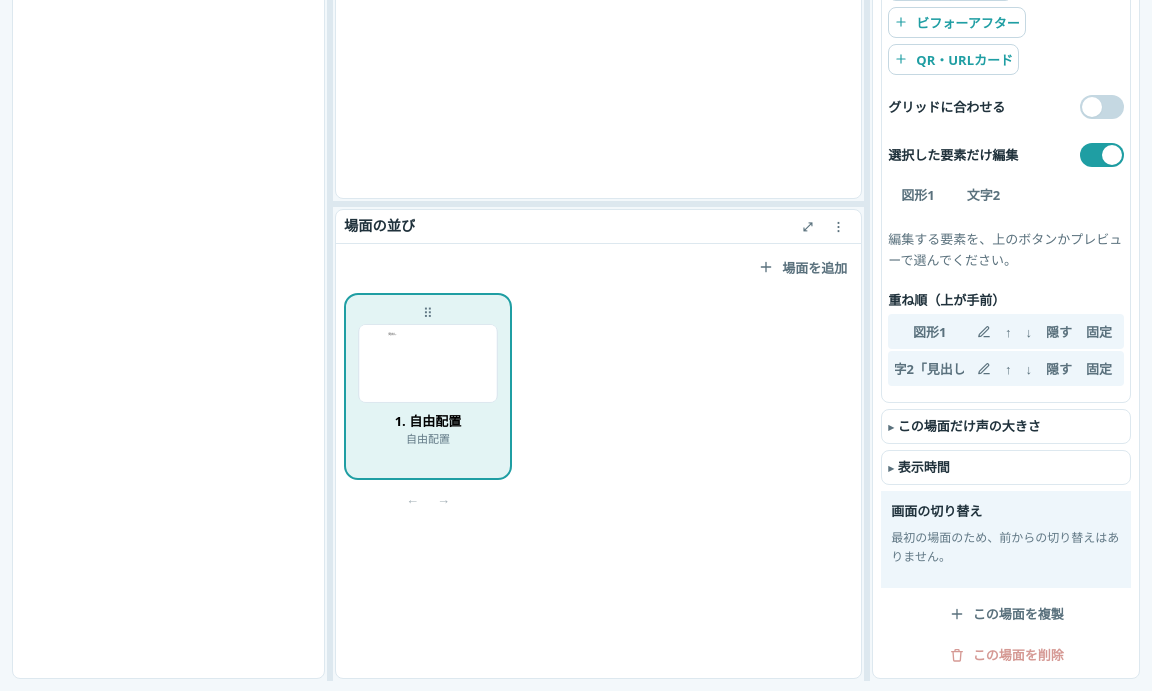
Scenario: SceneEditScreen FREE 要素の命名（#525-12） › ダブルクリックでも改名に入れる
(page scrolled)
Double-click the button titled "ダブルクリックで名前を変更" below "重ね順": (930, 332) [894, 316, 965, 347]
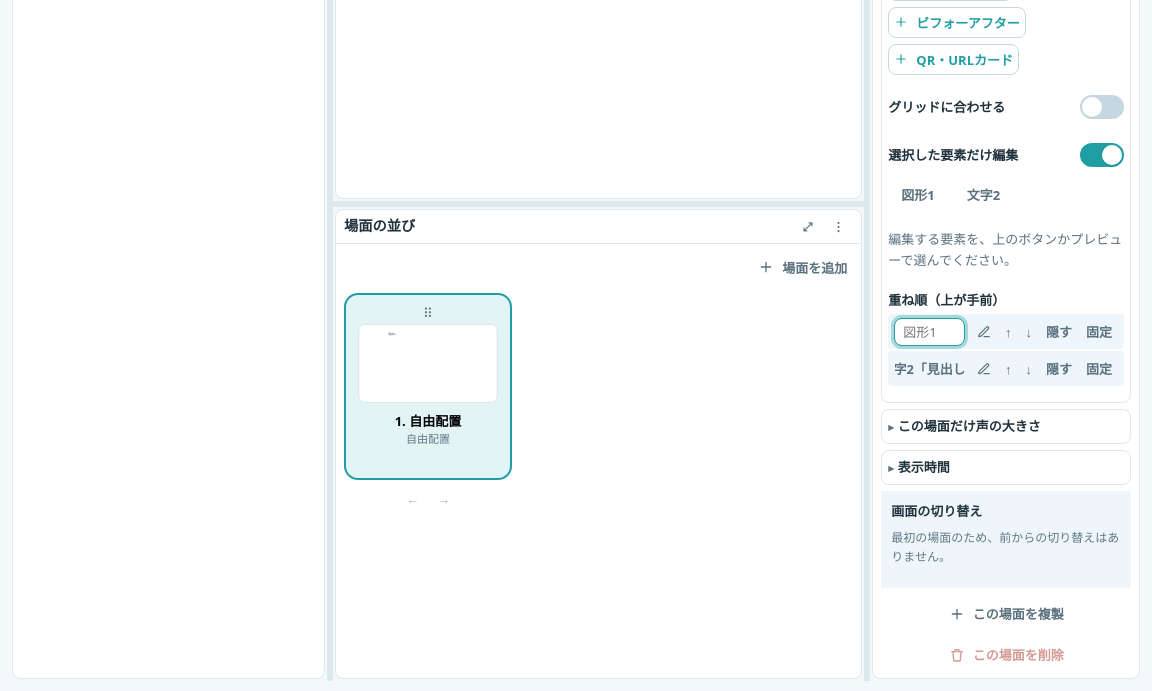
In the field named "要素名": (930, 332) [894, 318, 965, 346], type "四角A"
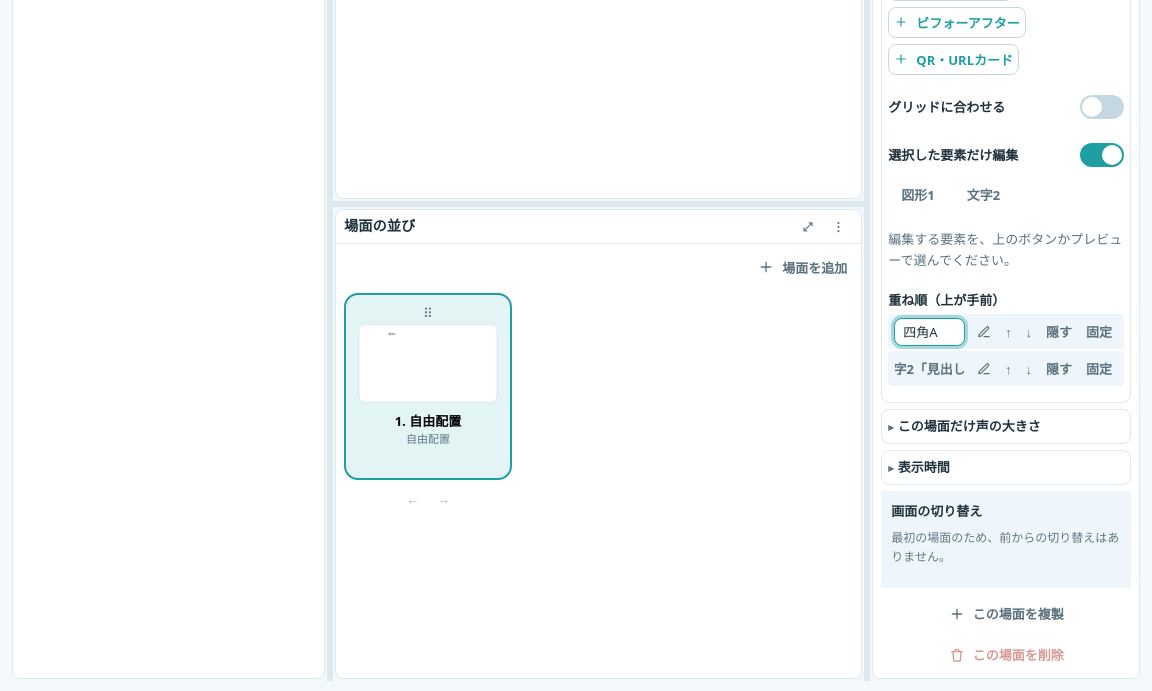
Press Enter in the field named "要素名", box [894, 318, 965, 346]
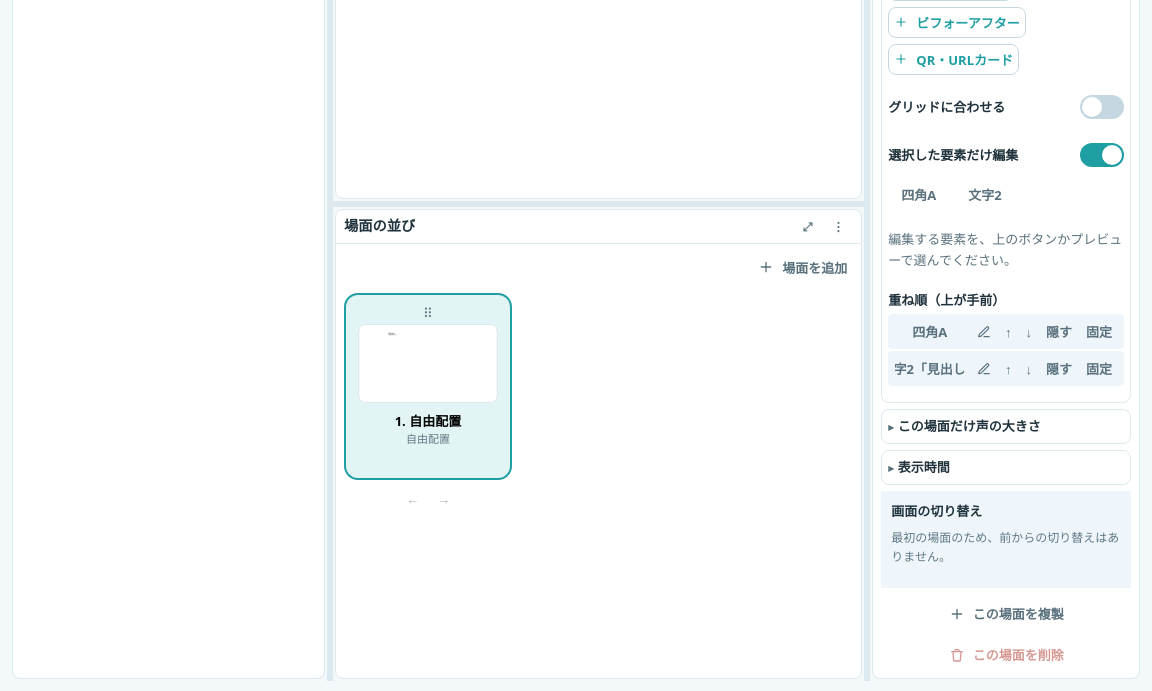
Check: the 1st button "四角A" is shown, box [888, 179, 949, 210]
